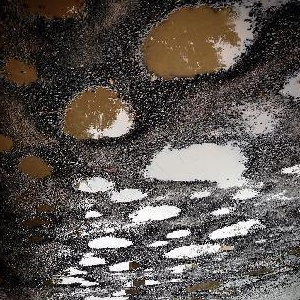pothole: (136, 1, 268, 86), (138, 138, 256, 188), (59, 86, 138, 146), (9, 0, 109, 36), (0, 55, 48, 97), (159, 241, 234, 262), (14, 152, 57, 183), (204, 220, 263, 242), (46, 269, 101, 291), (126, 206, 184, 226), (69, 173, 116, 194), (274, 69, 300, 102), (87, 236, 134, 253), (108, 187, 150, 204), (102, 260, 143, 273), (75, 256, 106, 268), (166, 228, 192, 240), (0, 135, 16, 154), (83, 209, 103, 221)
